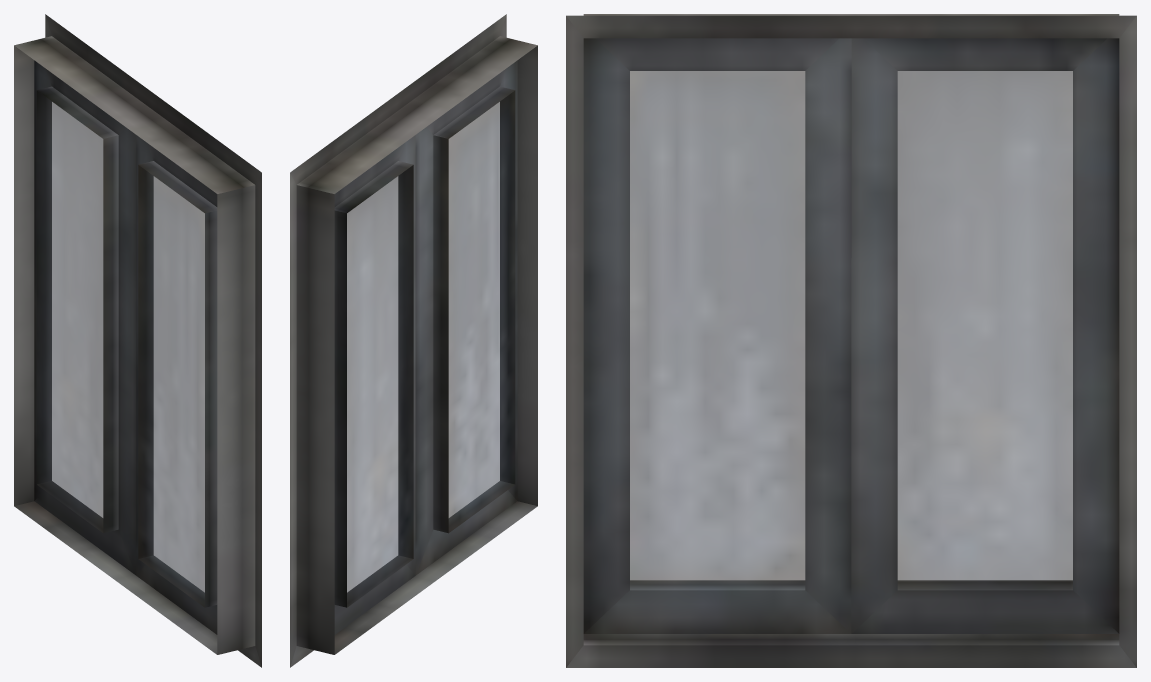
The model's file is SingleWindow_01.FBX.
3 renders of one model, left to right at view 1: azimuth 30°, elevation 25°; view 2: azimuth 150°, elevation 25°; view 3: azimuth 270°, elevation 25°, orthographic. The views are drawn at different scales.
Parts seen in each view (by area): view 1: SingleWindow_01; view 2: SingleWindow_01; view 3: SingleWindow_01.
Part boxes in pixels (x1,y1,x2,y2): SingleWindow_01: [14, 14, 261, 667]; SingleWindow_01: [290, 14, 537, 667]; SingleWindow_01: [566, 14, 1136, 667].
Bounding box in the file's own units: 13.82 × 173 × 137.
